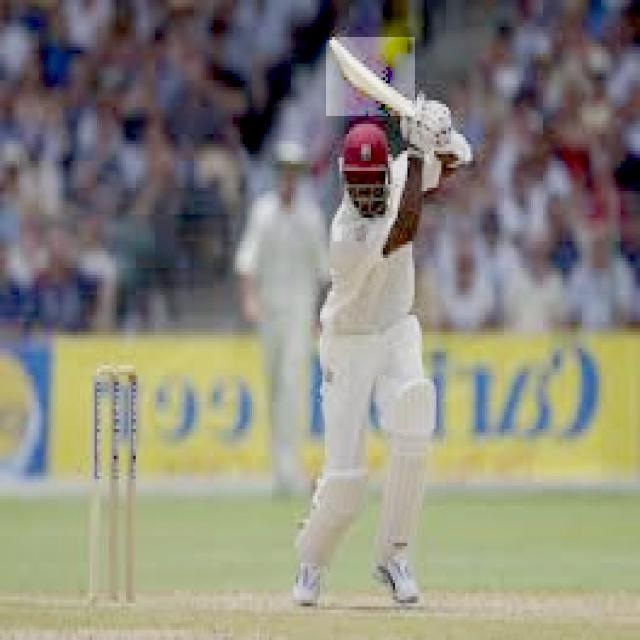bat: (325, 38, 416, 117)
toe: (326, 39, 344, 50)
